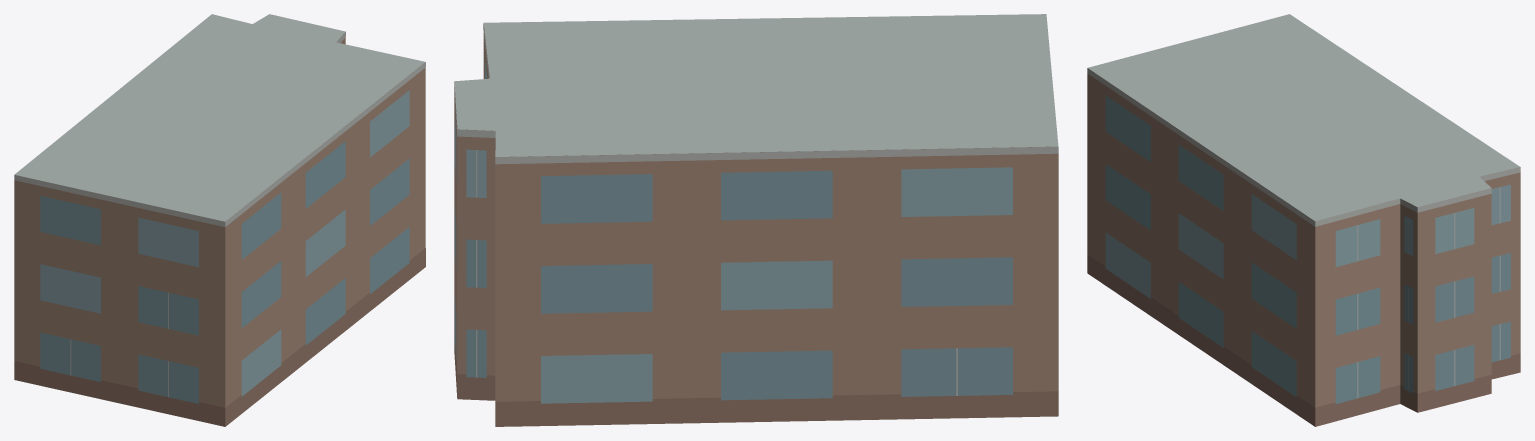
The model's file is survey-upis-32677828.glb.
3 views of the same model, side by side, from view 1: azimuth 30°, elevation 25°; view 2: azimuth 150°, elevation 25°; view 3: azimuth 270°, elevation 25° (orthographic). The views are drawn at different scales.
Visible parts, largest first — view 1: survey-upis-32677828.tmp; view 2: survey-upis-32677828.tmp; view 3: survey-upis-32677828.tmp.
Part boxes in pixels (left/top/right/bottom): survey-upis-32677828.tmp: left=14, top=14, right=425, bottom=426; survey-upis-32677828.tmp: left=454, top=14, right=1058, bottom=426; survey-upis-32677828.tmp: left=1087, top=14, right=1520, bottom=426.
Size of the model in its own units: 19.81 by 9.15 by 17.49.
